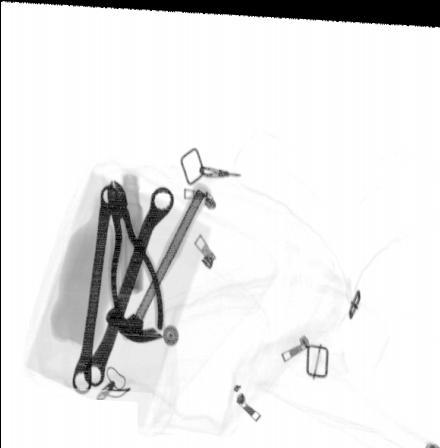Hammer: (105, 180, 212, 338)
Pliers: (105, 174, 168, 334)
Wrench: (82, 185, 175, 385), (70, 185, 122, 393)
